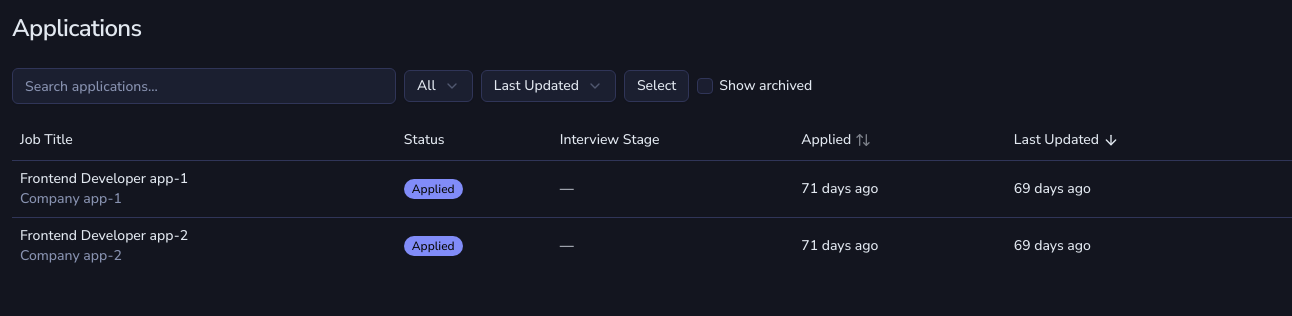
ApplicationsList › toolbar › renders status filter dropdown with all statuses
Open dropdown and verify all options
Click the dropdown named "Status filter" at (438, 86), box [404,70,473,102]
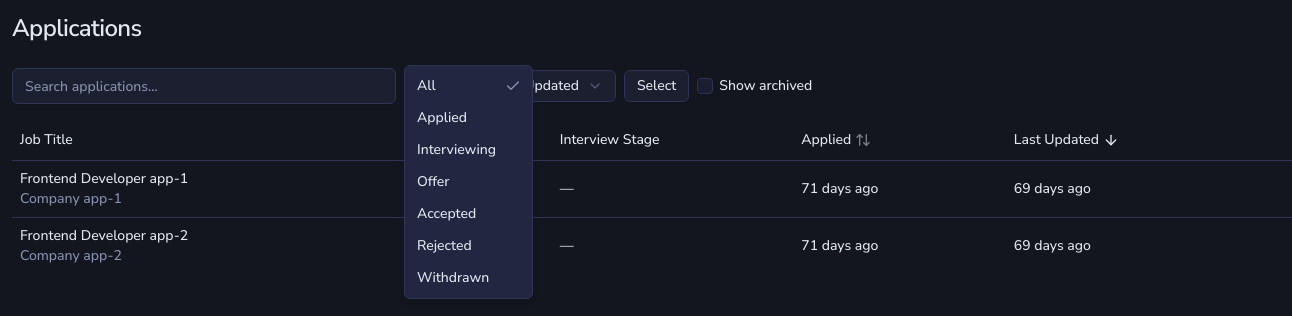
Check: the option "All" is shown, box [409,70,528,102]
Check: the option "Applied" is shown, box [417,108,467,127]
Check: the option "Interviewing" is shown, box [417,140,496,159]
